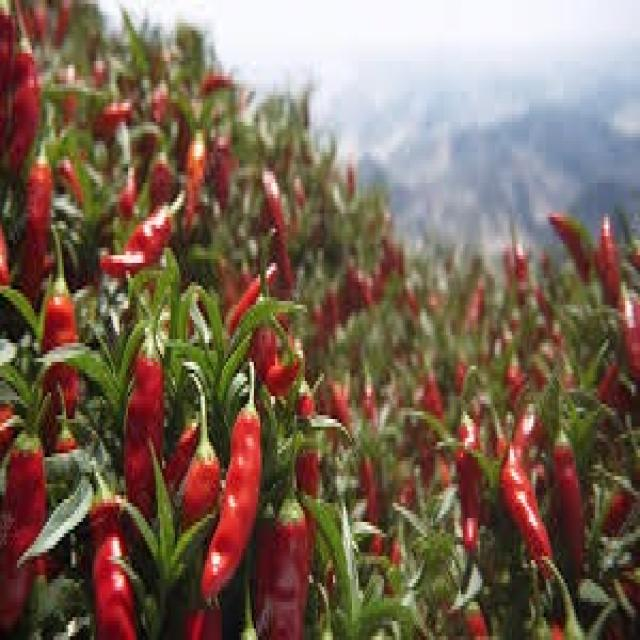Mosaic_virus: (2, 0, 346, 640), (333, 201, 640, 640)
